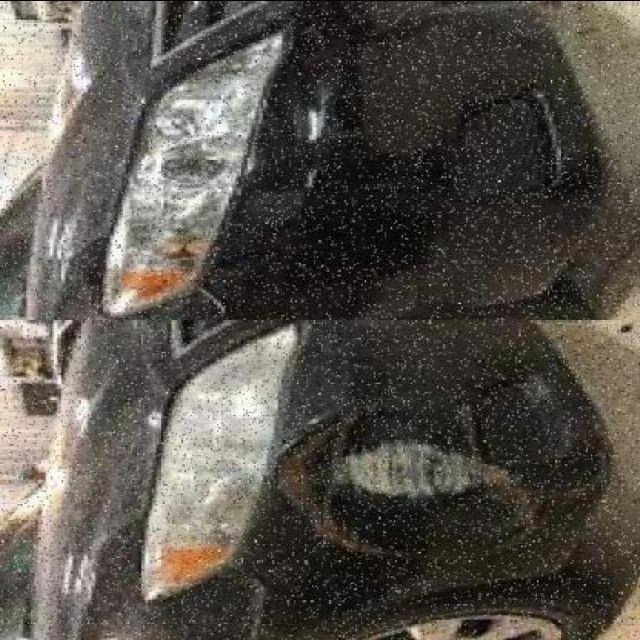front-bumper-dent: (274, 313, 618, 640)
